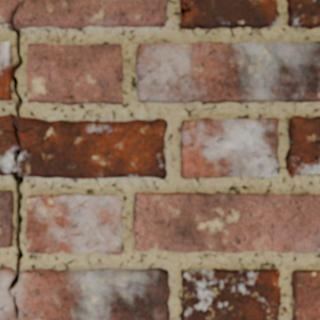brick: (136, 41, 319, 102), (133, 193, 319, 252), (181, 118, 278, 177), (27, 44, 122, 104), (25, 194, 121, 253), (181, 269, 280, 319), (180, 0, 277, 28), (285, 116, 319, 174), (291, 270, 319, 319), (287, 0, 319, 28), (0, 191, 12, 247), (0, 42, 11, 99)
broken_brick: (15, 117, 168, 180), (0, 266, 170, 319), (0, 0, 168, 29), (0, 133, 16, 176), (0, 113, 14, 129)
crack: (0, 2, 34, 317), (180, 1, 191, 17), (165, 308, 170, 315), (275, 167, 279, 174)
